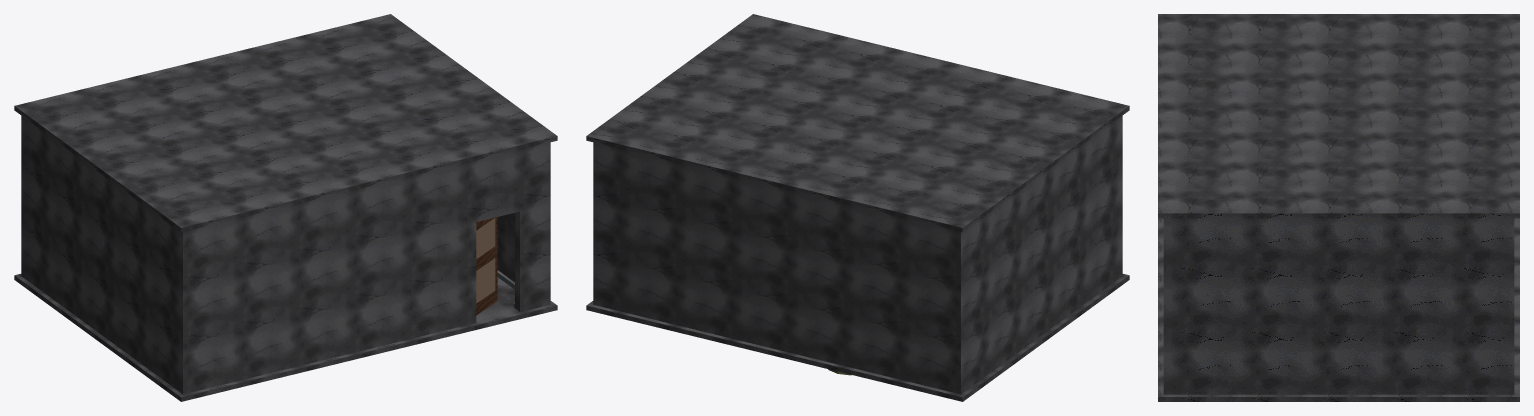
File: ep_chave.glb
The picture shows the model from 3 angles, left to right: view 1: azimuth 30°, elevation 25°; view 2: azimuth 150°, elevation 25°; view 3: azimuth 270°, elevation 25°; orthographic projection. The views are drawn at different scales.
Parts seen in each view (by area): view 1: concrete-col, flat, wood_dark; view 2: concrete-col; view 3: concrete-col.
Part boxes in pixels (box(x1,y1,x2,y2)): concrete-col: box(14, 14, 557, 401); flat: box(476, 218, 495, 303); wood_dark: box(476, 217, 497, 315); concrete-col: box(586, 14, 1129, 401); concrete-col: box(1158, 14, 1519, 401).
Bounding box in the file's own units: 8.6 × 5.2 × 6.6.
Materials: 35 (8 with a texture image).
